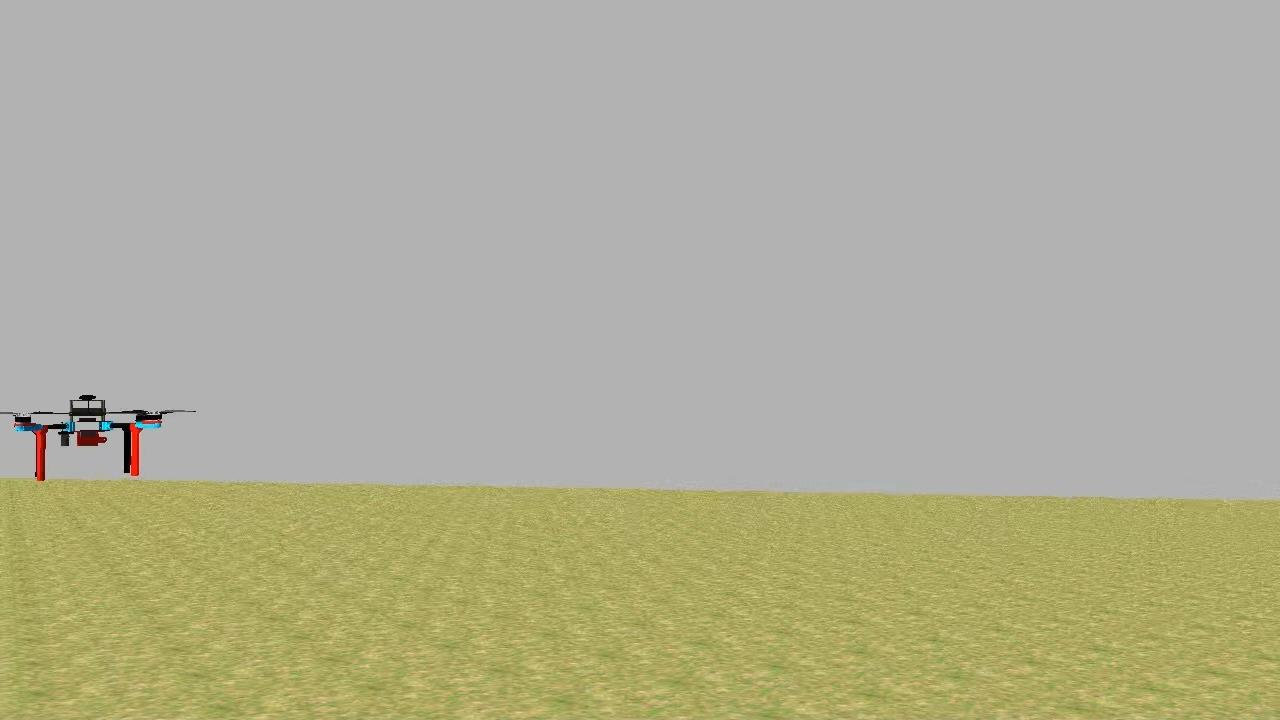UAV: (6, 387, 174, 490)
